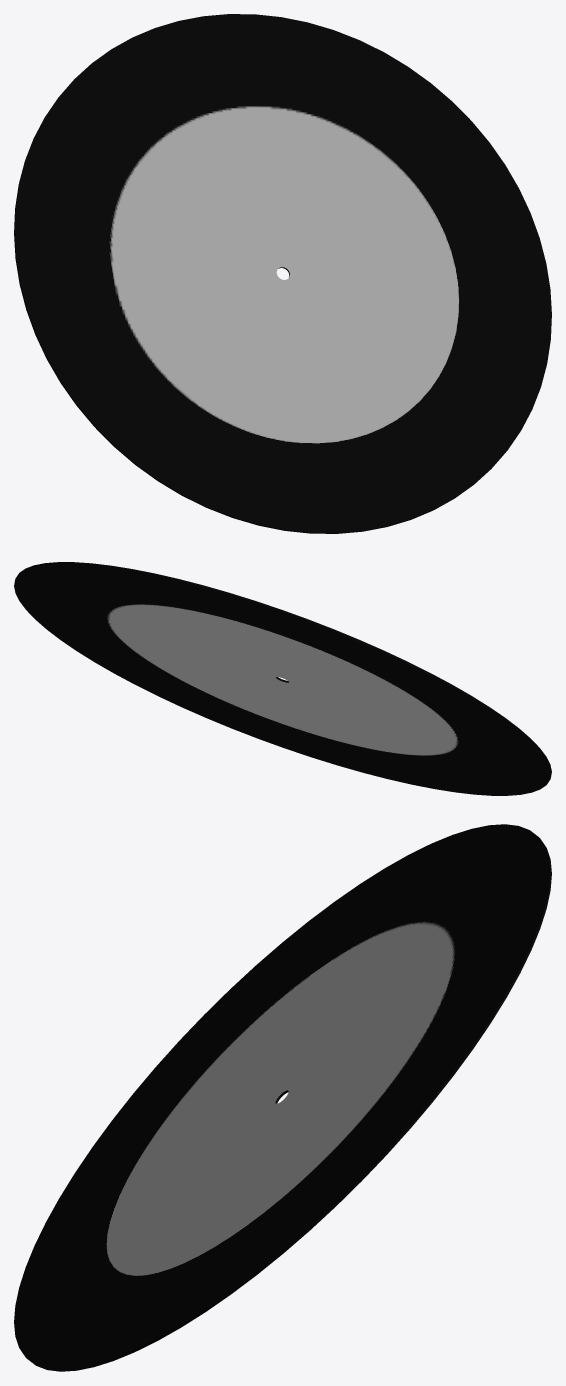
File: 12_vinyl_record.glb
3 views of the same model, one above another, from view 1: azimuth 30°, elevation 25°; view 2: azimuth 150°, elevation 25°; view 3: azimuth 270°, elevation 25° (orthographic). The views are drawn at different scales.
Visible parts, largest first — view 1: #REC0002_33_Highway_To_Hell; view 2: #REC0002_33_Highway_To_Hell; view 3: #REC0002_33_Highway_To_Hell.
Part boxes in pixels (x1,y1,x2,y2): #REC0002_33_Highway_To_Hell: [14, 14, 551, 533]; #REC0002_33_Highway_To_Hell: [14, 562, 551, 795]; #REC0002_33_Highway_To_Hell: [14, 824, 551, 1371].
Bounding box in the file's own units: 0.3 × 0.2046 × 0.2208.
1 material, 1 textured.
